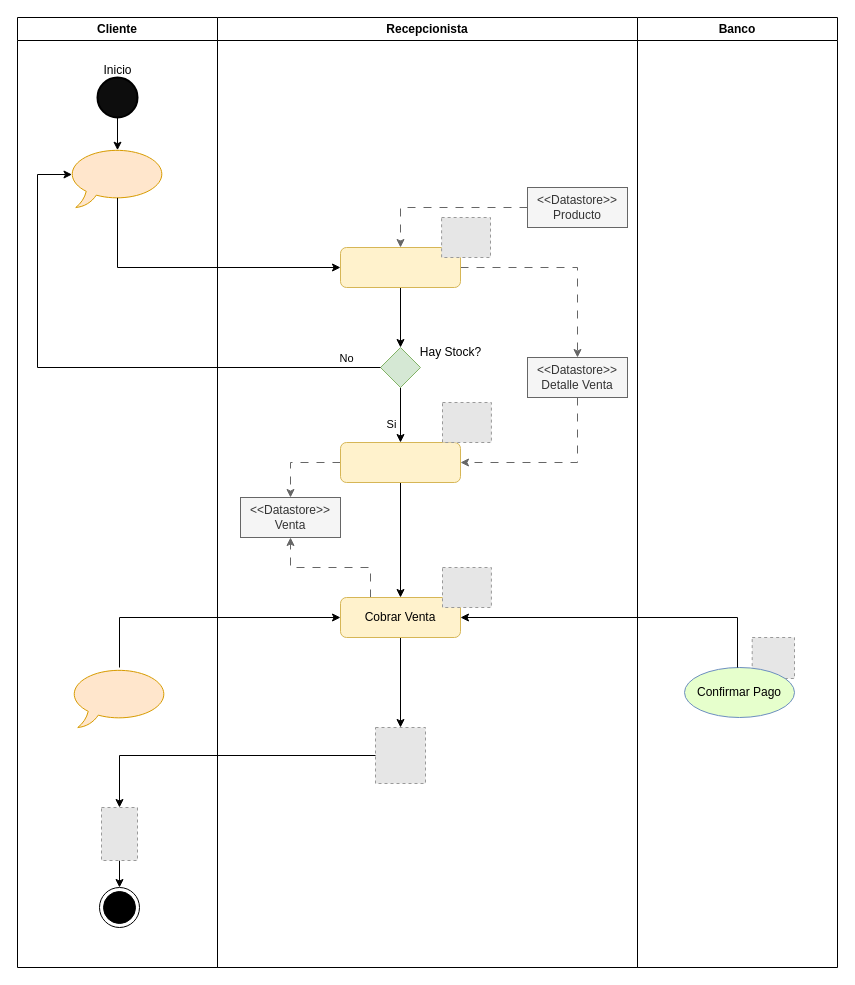
This 855x985 diagram has some shape labels left out. Grey dashed boxes stand in for pictures. The centre of each missing label's shape, as x and y in pixels:
Datos de pago: [119,697]
Datos de producto: [117,177]
Ingresar datos de venta: [400,462]
Seleccionar Productos: [400,267]
